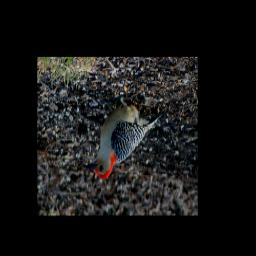Woodpecker: (84, 90, 161, 179)
